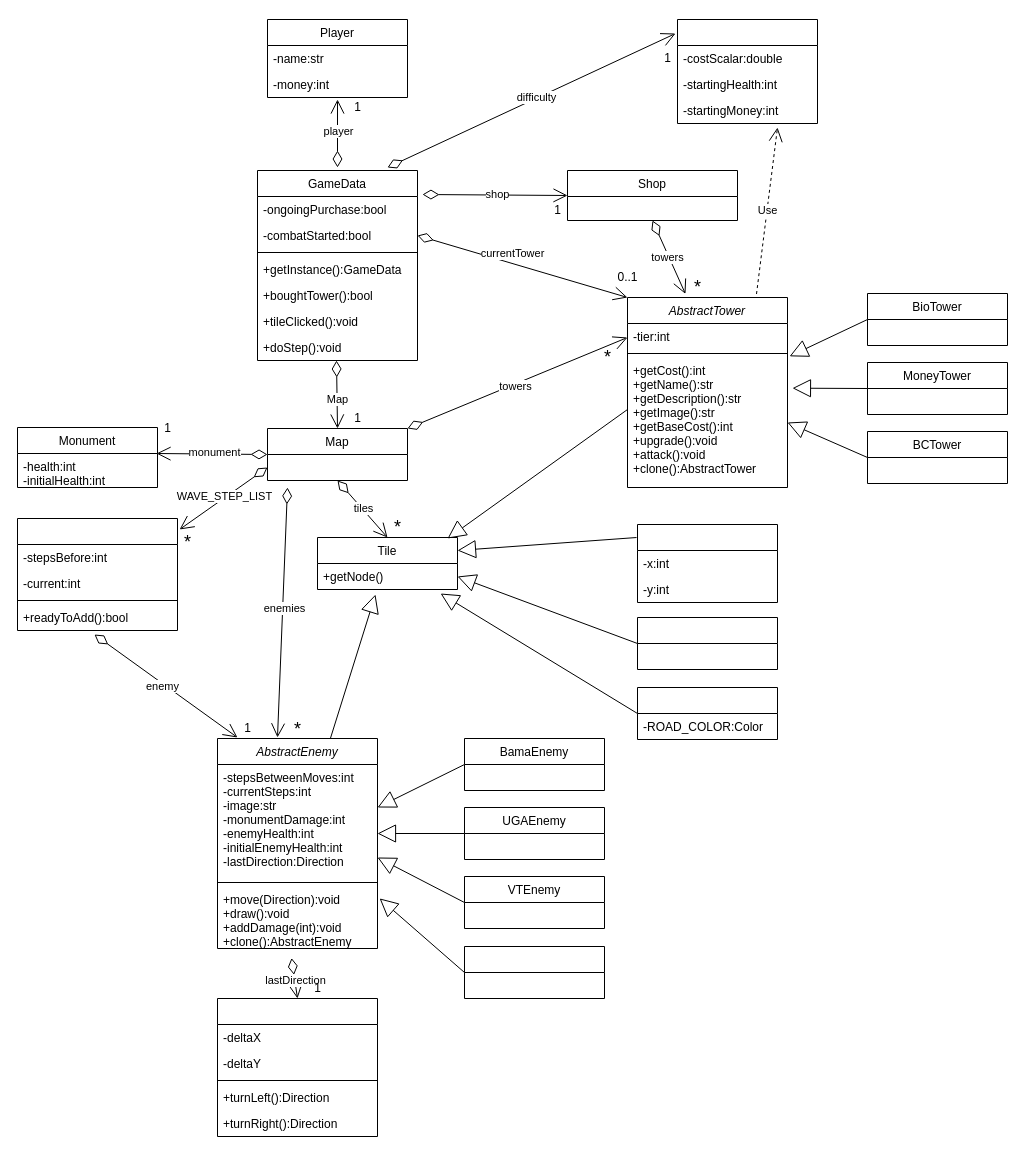
The diagram is 1025 pixels wide and 1157 high, and some of its shapes have lost their labels. Each missing label, with the box of its shape:
DifficultyEnum: (676, 18, 818, 124)
DirectionEnum: (216, 998, 378, 1136)
FinalBoss: (464, 946, 604, 998)
Grass: (636, 616, 778, 670)
MonumentTile: (636, 524, 778, 602)
Path: (636, 686, 778, 740)
WaveStep: (16, 518, 178, 630)
